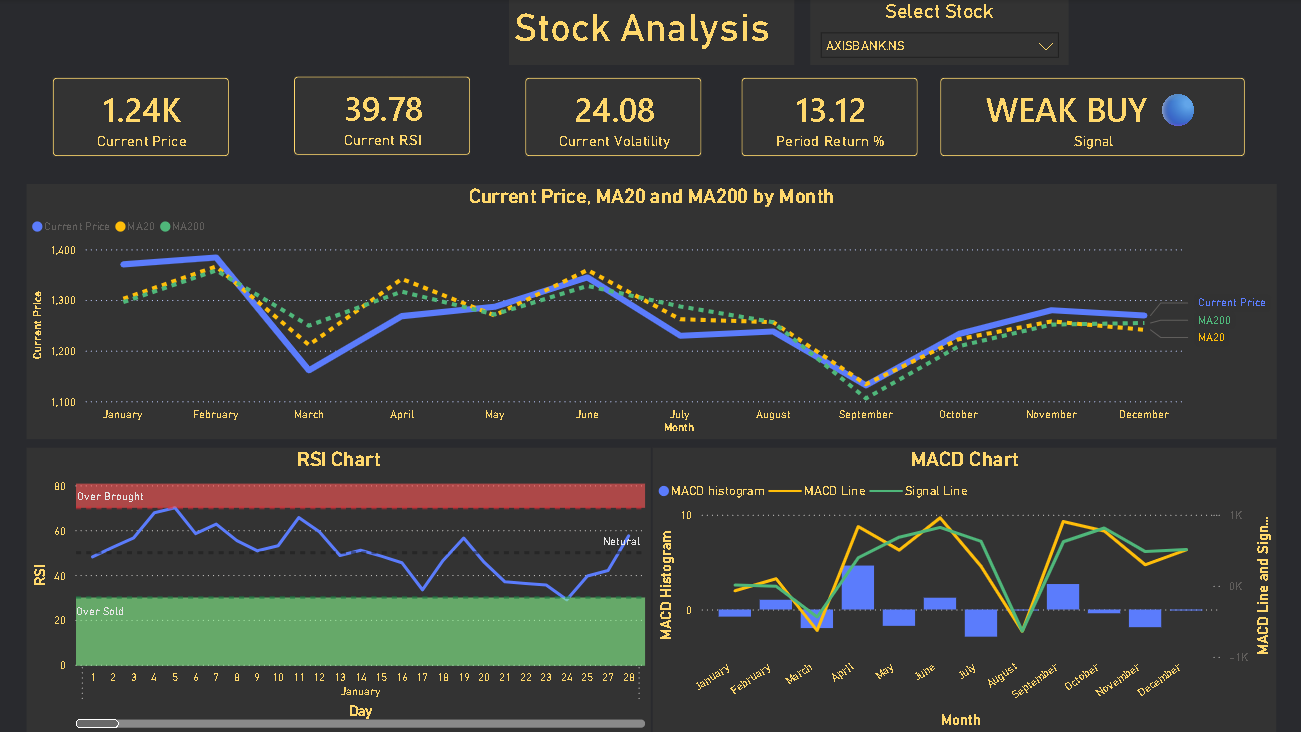

The page's visual inventory and layout, read from the dashboard file:
{"tool":"powerbi","page":{"name":"Stock Analysis","canvas":[1280,720],"ordinal":2},"visuals":[{"type":"textbox","box":[500.6,0,279.8,65],"z":0},{"type":"slicer","title":"Select Stock","fields":{"Values":["CurrentSignal.Ticker"]},"box":[796.3,0,254,65],"z":1000},{"type":"cardVisual","fields":{"Data":["StockData.Current RSI"]},"box":[289.6,76.1,173,77.3],"z":2000},{"type":"cardVisual","fields":{"Data":["Min(CurrentSignal.final_signal)"]},"box":[923.9,77.3,299.4,77.3],"z":3000},{"type":"cardVisual","fields":{"Data":["StockData.Current Volatility"]},"box":[516.6,77.3,173,77.3],"z":4000},{"type":"cardVisual","fields":{"Data":["StockData.Period Return %"]},"box":[728.8,77.3,173,77.3],"z":5000},{"type":"cardVisual","fields":{"Data":["StockData.Current Price"]},"box":[52.8,77.3,173,77.3],"z":6000},{"type":"lineChart","fields":{"Y":["StockData.Current Price","StockData.MA20","StockData.MA200"],"Category":["StockData.Date.Variation.Date Hierarchy.Month","StockData.Date.Variation.Date Hierarchy.Day"]},"box":[27,181.6,1227,250.3],"z":7000},{"type":"lineChart","title":"RSI Chart","fields":{"Y":["Avg(StockData.RSI)"],"Category":["StockData.Date.Variation.Date Hierarchy.Month","StockData.Date.Variation.Date Hierarchy.Day"]},"box":[27.5,440,612.5,280],"z":8000},{"type":"lineClusteredColumnComboChart","title":"MACD Chart","fields":{"Y":["Avg(StockData.histogram)"],"Y2":["Sum(StockData.macd_line)","Sum(StockData.signal_line)"],"Category":["StockData.Date.Variation.Date Hierarchy.Month","StockData.Date.Variation.Date Hierarchy.Day"]},"box":[642,440,612,280],"z":9000}]}

Visuals, with their boxes in screenshot pixels (x1, y1, x2, y2), scaled from the page's 1280x720 canvas onto the 1301x732 screenshot:
textbox: BBox(509, 0, 793, 66)
"Select Stock" slicer: BBox(809, 0, 1068, 66)
cardVisual - StockData.Current RSI: BBox(294, 77, 470, 156)
cardVisual - Min(CurrentSignal.final_signal): BBox(939, 79, 1243, 157)
cardVisual - StockData.Current Volatility: BBox(525, 79, 701, 157)
cardVisual - StockData.Period Return %: BBox(741, 79, 917, 157)
cardVisual - StockData.Current Price: BBox(54, 79, 230, 157)
lineChart - StockData.Current Price x StockData.MA20: BBox(27, 185, 1275, 439)
"RSI Chart" lineChart: BBox(28, 447, 650, 731)
"MACD Chart" lineClusteredColumnComboChart: BBox(653, 447, 1275, 731)
